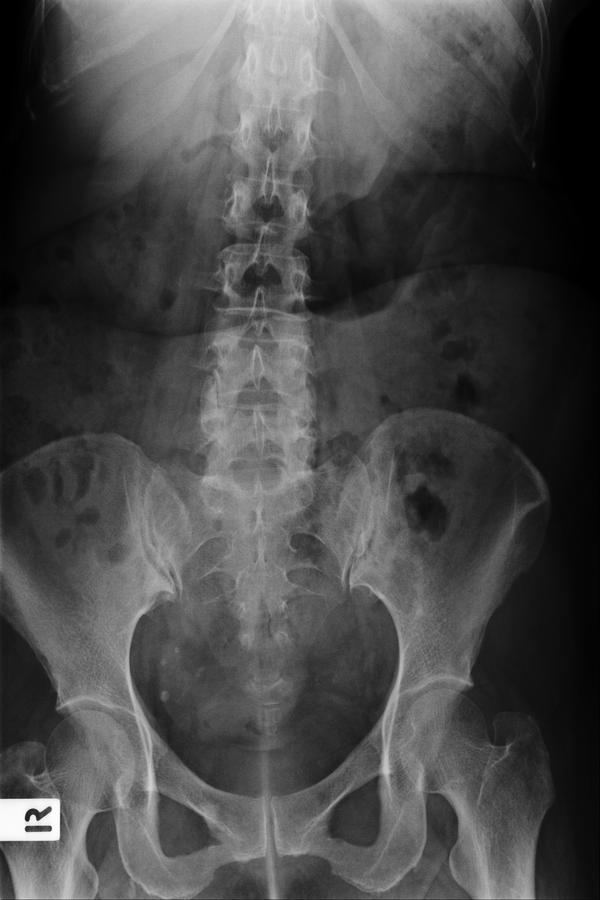lumbar scoliosis: (195, 9, 323, 511)
